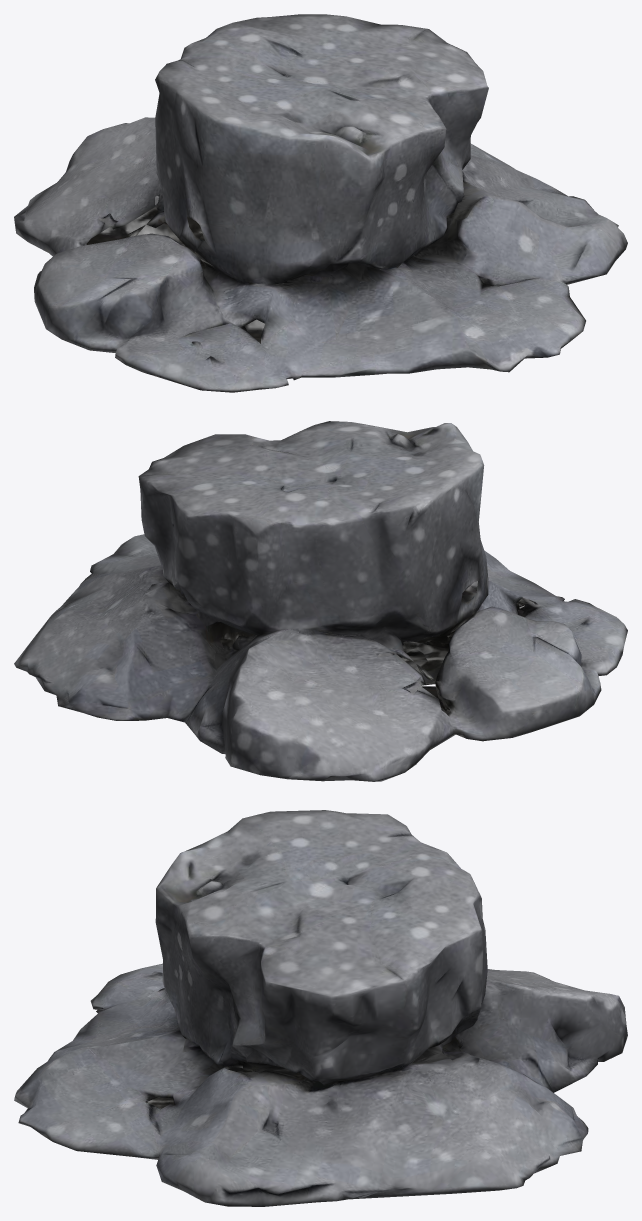
File: rock-6.glb
The picture shows the model from 3 angles, top to bottom: view 1: azimuth 30°, elevation 25°; view 2: azimuth 150°, elevation 25°; view 3: azimuth 270°, elevation 25°; orthographic projection. The views are drawn at different scales.
Parts seen in each view (by area): view 1: Mesh_0; view 2: Mesh_0; view 3: Mesh_0.
Part boxes in pixels (x1=…): Mesh_0: x1=14, y1=14, x2=627, y2=392; Mesh_0: x1=14, y1=421, x2=627, y2=781; Mesh_0: x1=14, y1=810, x2=627, y2=1206.
Bounding box in the file's own units: 1.99 × 0.7484 × 2.
Materials: 1 (1 with a texture image).
